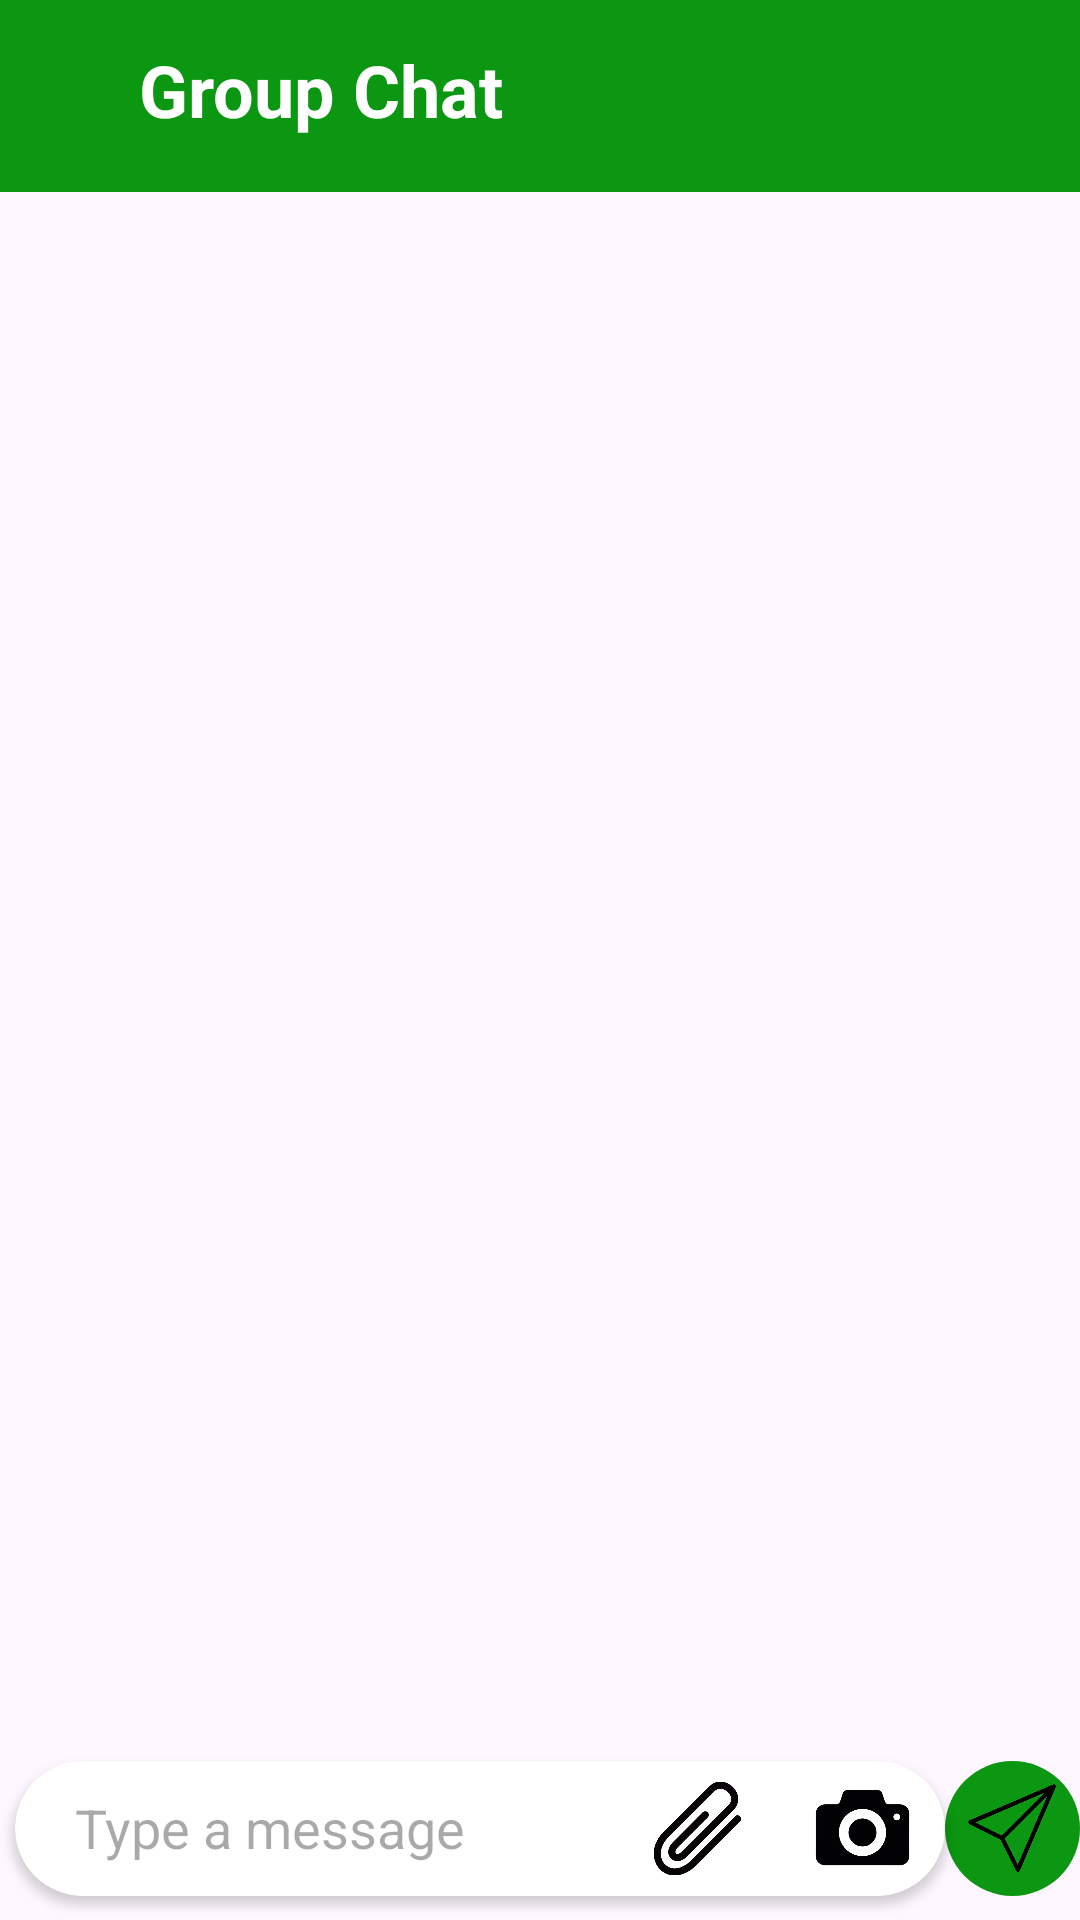

Screen size 1080 x 1920. Icon name, then its center in pixels as (x=x, y=y):
attachment: (x=697, y=1828)
camera: (x=862, y=1828)
send: (x=1012, y=1828)
